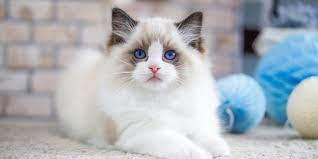ragdoll: (100, 1, 208, 106)
